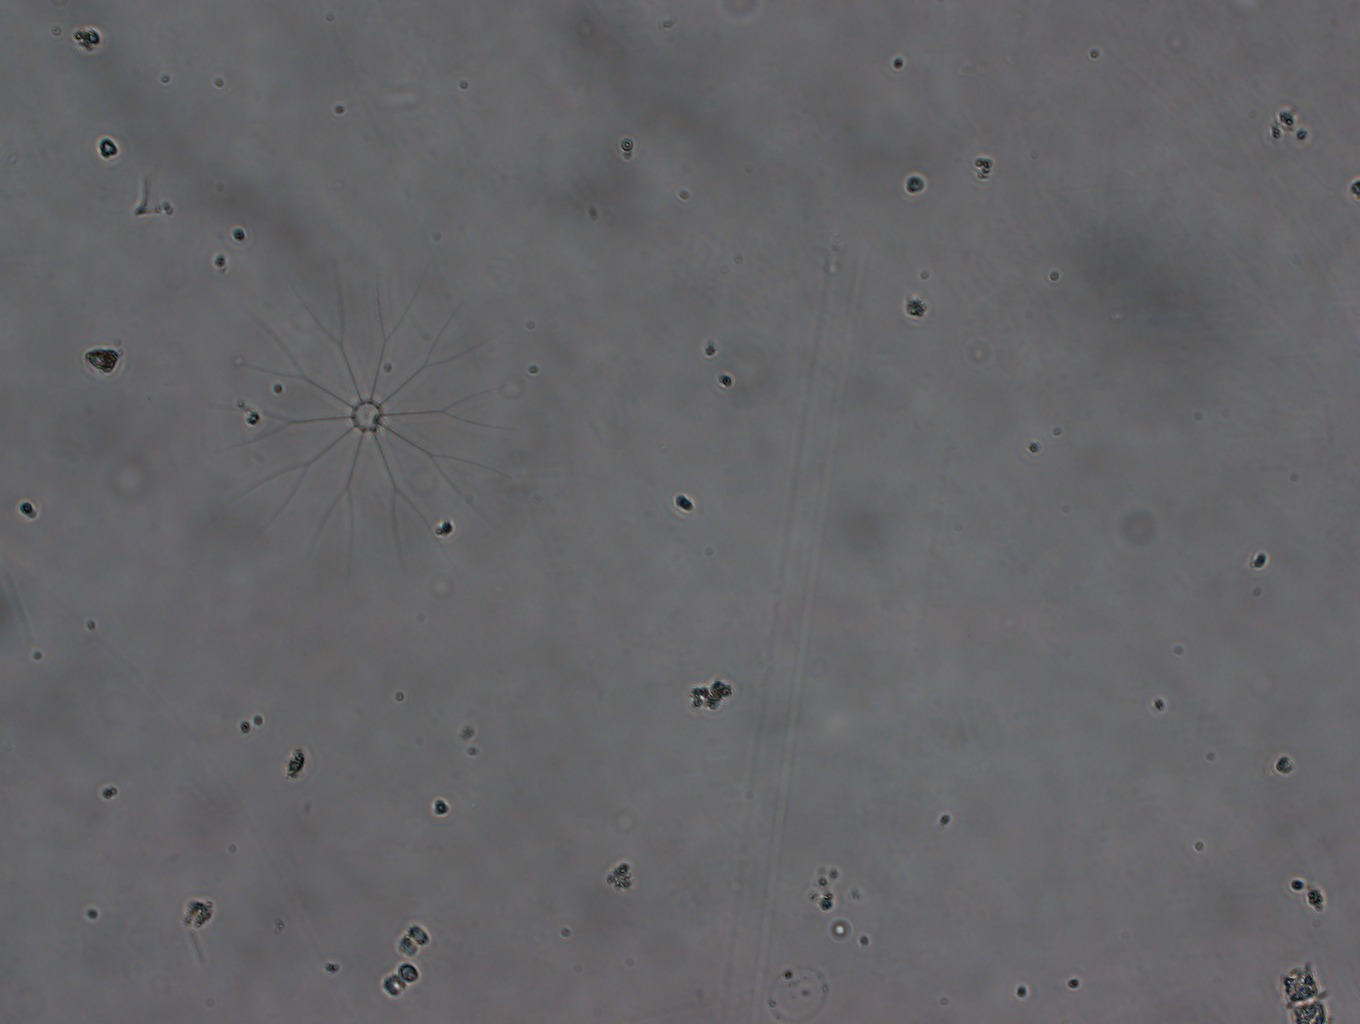bacteriastrum: (221, 266, 507, 572)
